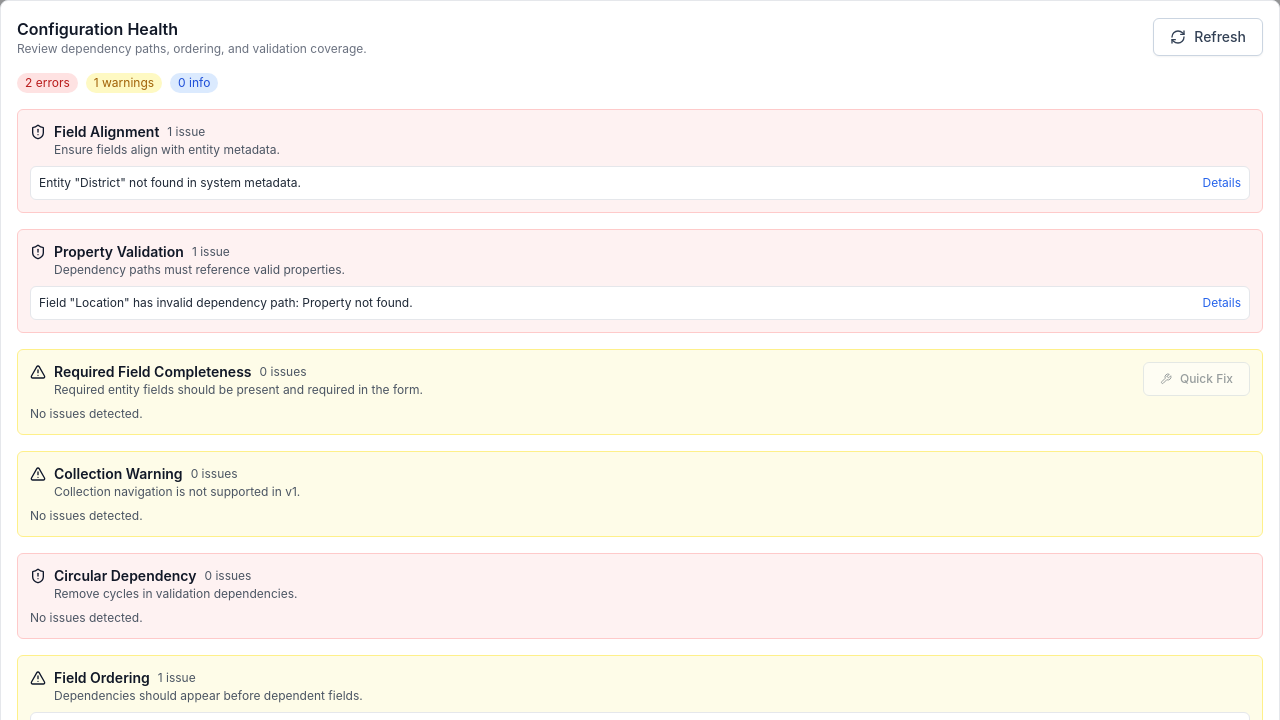
Test: ConfigurationHealthPanel › expands issue details when clicked
Click the 1st button "Details" at (1222, 183), box [1202, 175, 1241, 191]
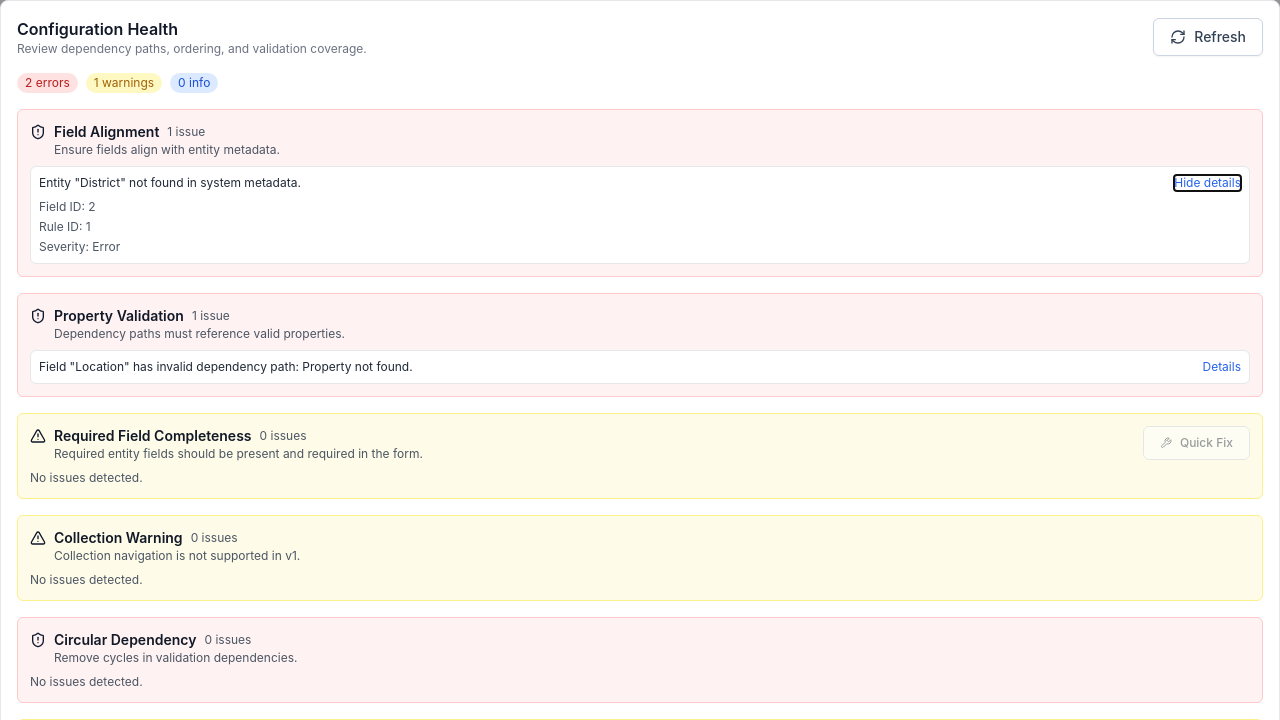
Expected: the text "Field ID: 2" is shown, [39, 199, 96, 214]
Expected: the text "Rule ID: 1" is shown, [39, 219, 91, 234]
Expected: the text "Severity: Error" is shown, [39, 239, 120, 254]
